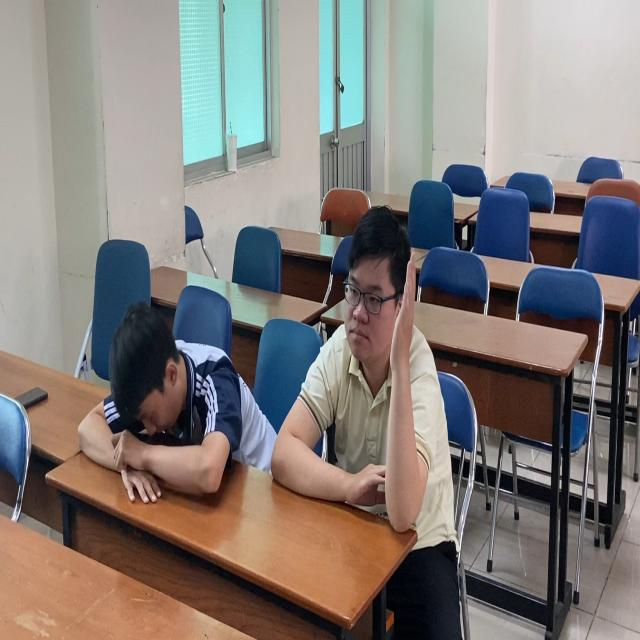raise_hand: (315, 201, 452, 554)
sleep: (73, 296, 285, 530)
